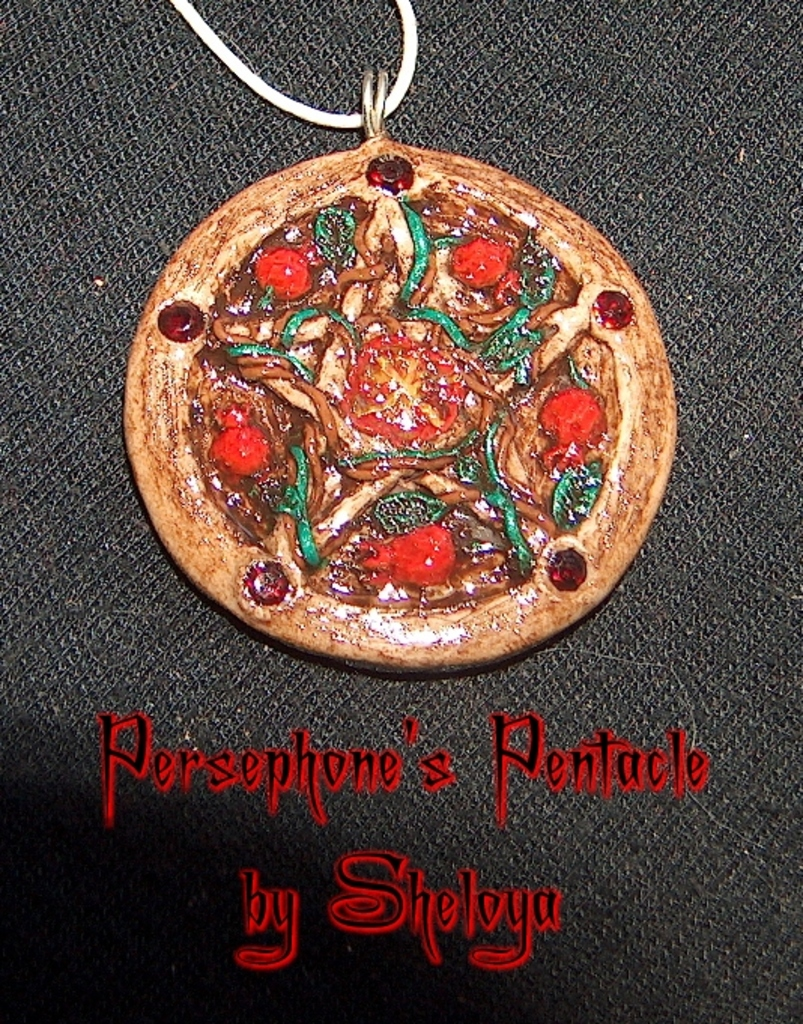Pizza: (163, 129, 690, 667)
